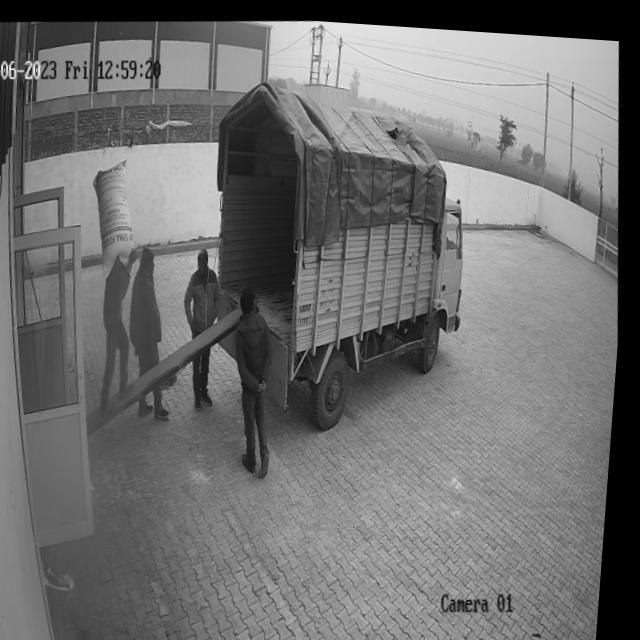sack: (88, 153, 142, 277)
